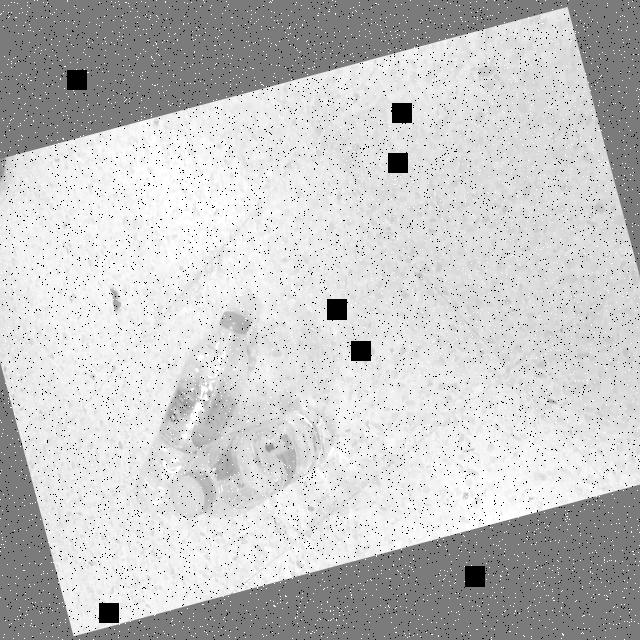plastic_bottle: (94, 302, 292, 518), (157, 400, 345, 530)
plastic_bottle_cap: (166, 466, 214, 518), (218, 304, 254, 338)
straw: (136, 331, 269, 482)
